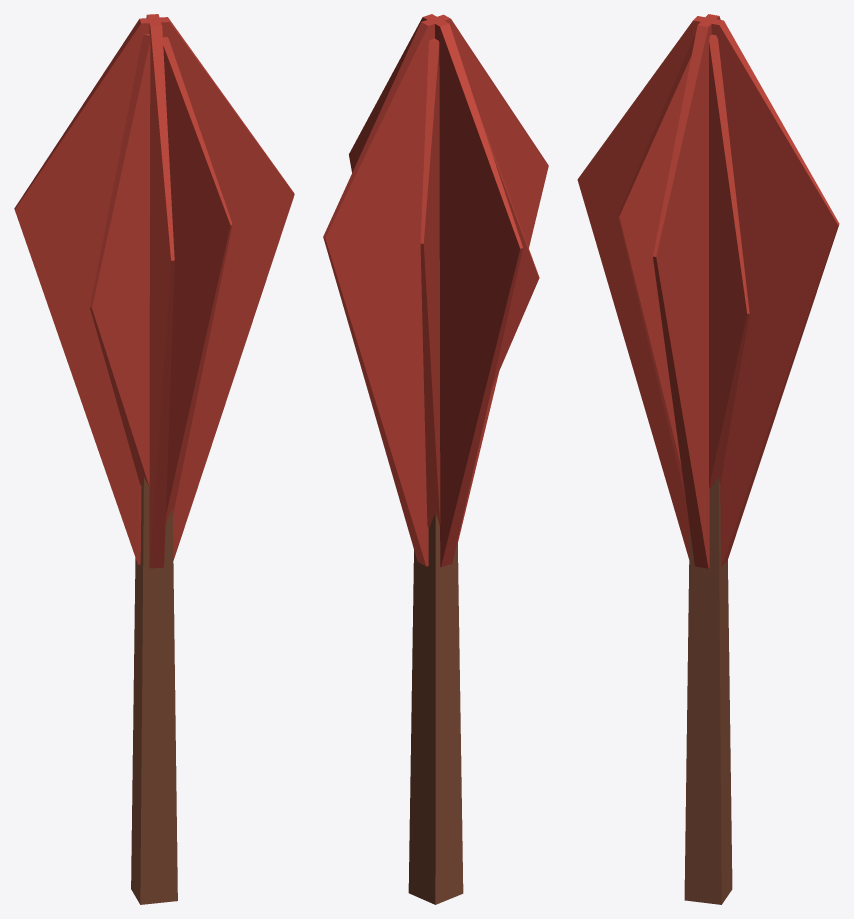
The model's file is Tree_33_summer_red_mat.fbx.
3 views of the same model, side by side, from view 1: azimuth 30°, elevation 25°; view 2: azimuth 150°, elevation 25°; view 3: azimuth 270°, elevation 25° (orthographic).
Parts seen in each view (by area): view 1: Tree_33_summer_red_mat; view 2: Tree_33_summer_red_mat; view 3: Tree_33_summer_red_mat.
Boxes of the visible parts, bbox=[...] form: Tree_33_summer_red_mat: bbox=[14, 14, 294, 904]; Tree_33_summer_red_mat: bbox=[323, 14, 548, 904]; Tree_33_summer_red_mat: bbox=[577, 14, 839, 904].
Bounding box in the file's own units: 84.61 × 311 × 84.61.
